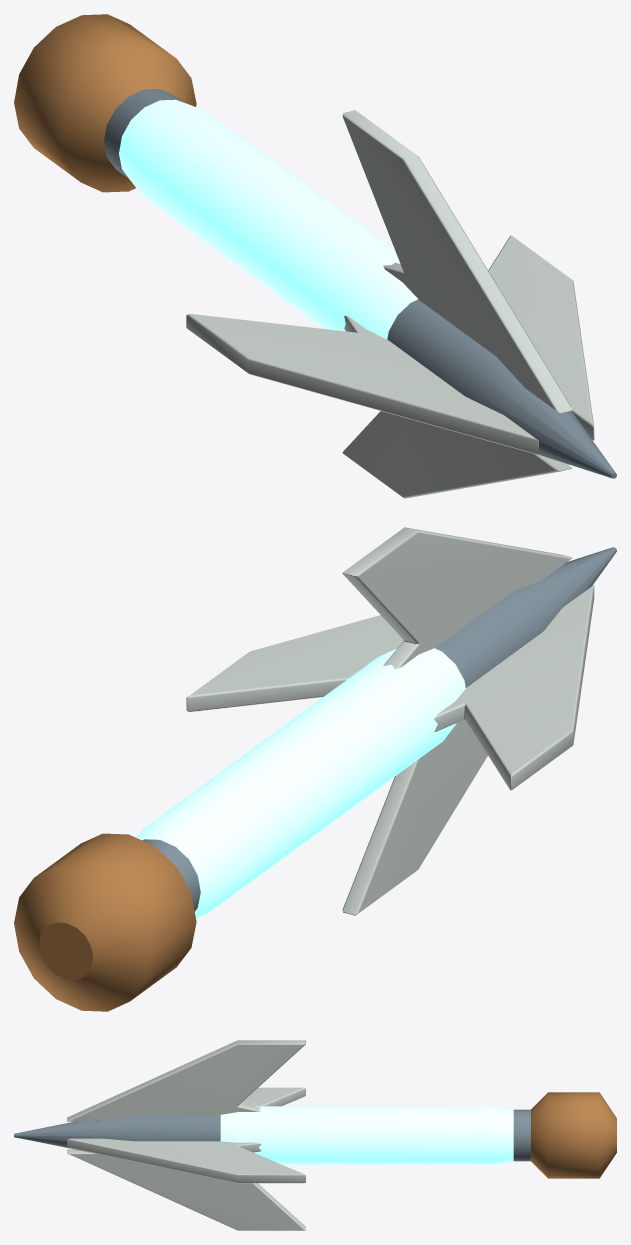
The model's file is zb_electric_harpoon.glb.
3 views of the same model, one above another, from view 1: azimuth 30°, elevation 25°; view 2: azimuth 150°, elevation 25°; view 3: azimuth 270°, elevation 25° (orthographic). The views are drawn at different scales.
Visible parts, largest first — view 1: zb_electric_harpoon / Ivory ceramic, zb_electric_harpoon / Ion exhaust, zb_electric_harpoon / Copper driving band, zb_electric_harpoon / Machined titanium; view 2: zb_electric_harpoon / Ivory ceramic, zb_electric_harpoon / Ion exhaust, zb_electric_harpoon / Copper driving band, zb_electric_harpoon / Machined titanium; view 3: zb_electric_harpoon / Ivory ceramic, zb_electric_harpoon / Ion exhaust, zb_electric_harpoon / Copper driving band, zb_electric_harpoon / Machined titanium.
Boxes of the visible parts, <box> form: zb_electric_harpoon / Ivory ceramic: <box>186,110,594,498</box>; zb_electric_harpoon / Ion exhaust: <box>119,99,417,339</box>; zb_electric_harpoon / Copper driving band: <box>14,14,196,192</box>; zb_electric_harpoon / Machined titanium: <box>104,89,616,478</box>; zb_electric_harpoon / Ivory ceramic: <box>186,527,594,915</box>; zb_electric_harpoon / Ion exhaust: <box>136,648,465,918</box>; zb_electric_harpoon / Copper driving band: <box>14,833,196,1011</box>; zb_electric_harpoon / Machined titanium: <box>142,547,616,911</box>; zb_electric_harpoon / Ivory ceramic: <box>67,1040,305,1230</box>; zb_electric_harpoon / Ion exhaust: <box>220,1106,513,1164</box>; zb_electric_harpoon / Copper driving band: <box>531,1092,616,1178</box>; zb_electric_harpoon / Machined titanium: <box>14,1109,530,1161</box>.
Size of the model in its own units: 12 by 12 by 35.
